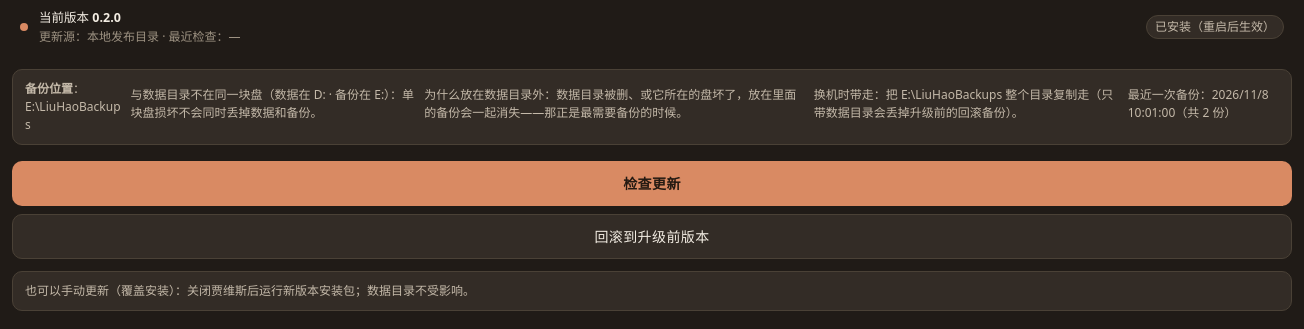
Test case: 软件更新面板 › 升级成功后可以一键回滚，回滚使用这次升级前的备份
This screenshot has width=1304, height=329.
Click the button "回滚到升级前版本": [652, 236] box [12, 214, 1292, 259]
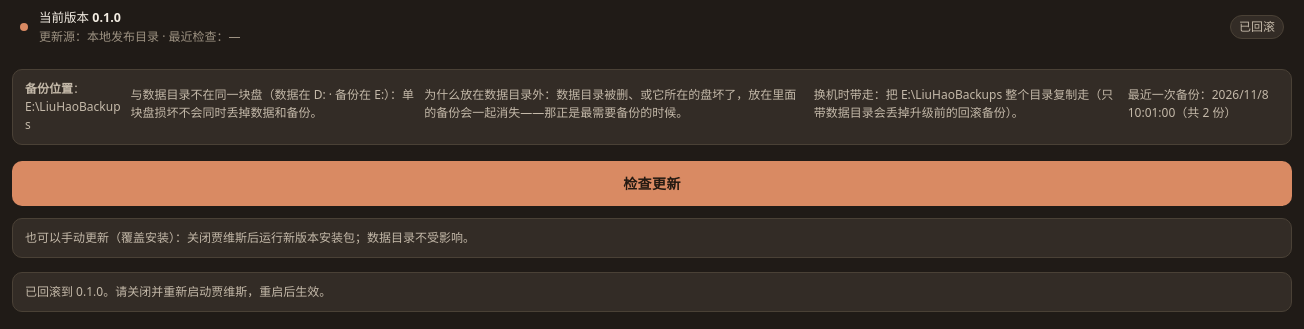
Result: the message shows "已回滚到 0.1.0" at [25, 283, 331, 300]
